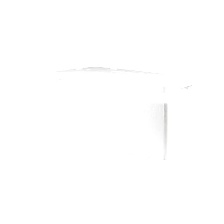foam_box: (21, 57, 207, 167)
